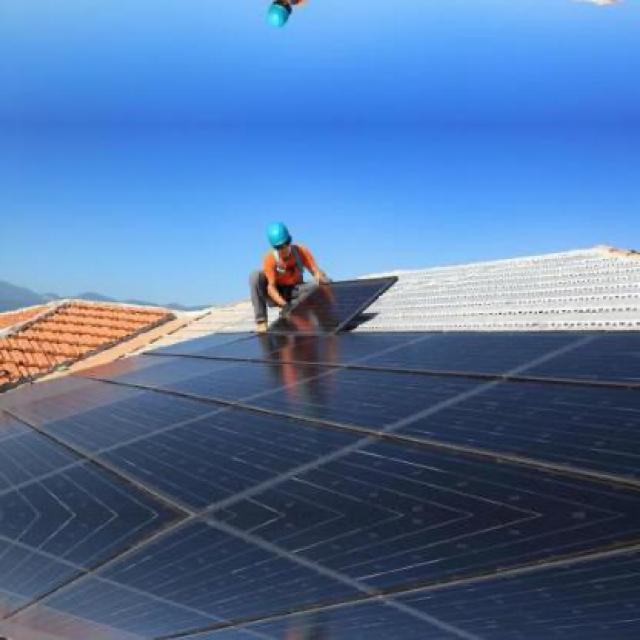helmet: (261, 216, 297, 256), (262, 0, 299, 35)
